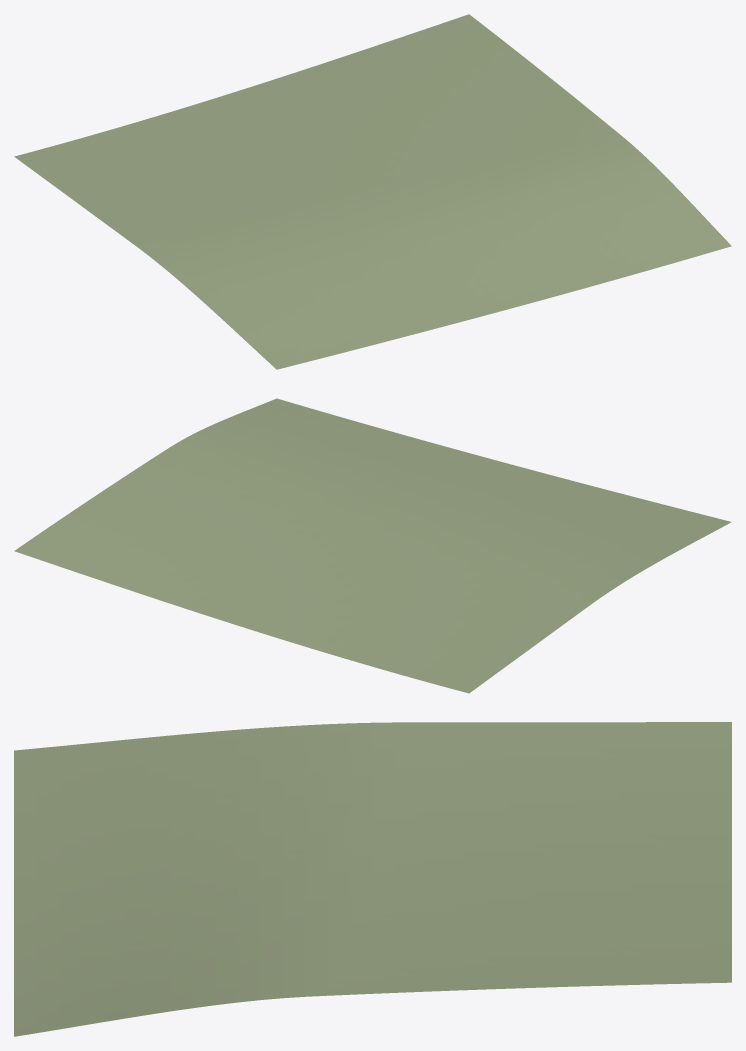
File: valley-9-6.glb
The picture shows the model from 3 angles, top to bottom: view 1: azimuth 30°, elevation 25°; view 2: azimuth 150°, elevation 25°; view 3: azimuth 270°, elevation 25°; orthographic projection. The views are drawn at different scales.
Parts seen in each view (by area): view 1: valley-9-6; view 2: valley-9-6; view 3: valley-9-6.
Boxes of the visible parts, <box> form: valley-9-6: <box>14,14,731,369</box>; valley-9-6: <box>14,398,731,693</box>; valley-9-6: <box>14,722,731,1036</box>.
Bounding box in the file's own units: 256 × 28.03 × 256.
